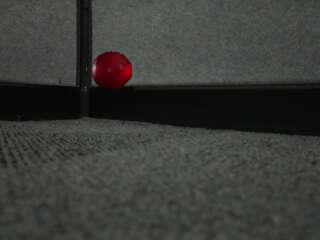Tomato: (90, 47, 136, 92)
